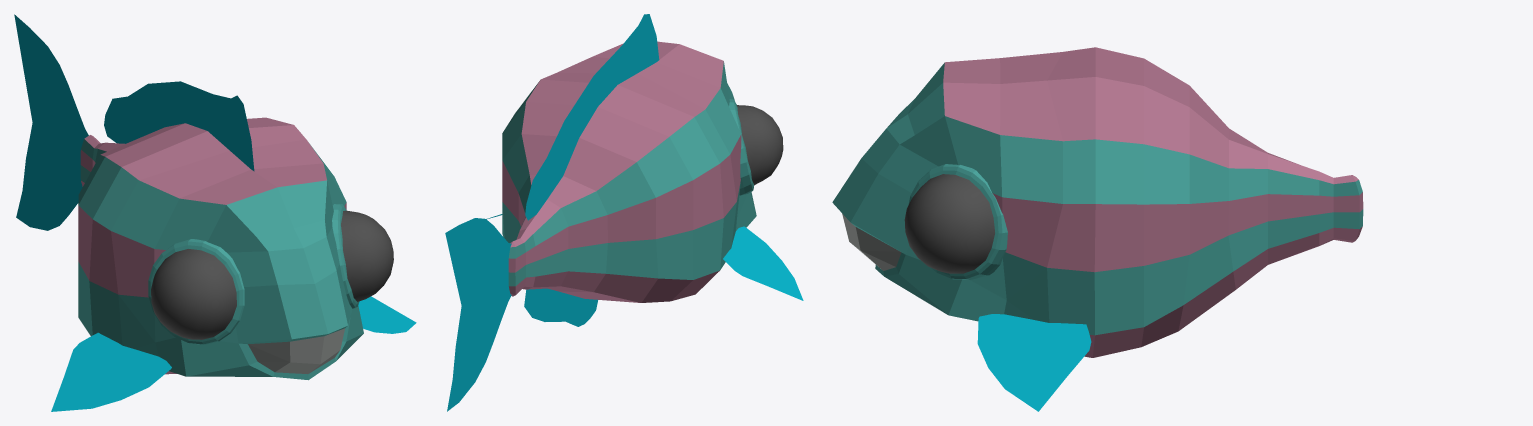
File: parrotfish.glb
3 renders of one model, left to right at view 1: azimuth 30°, elevation 25°; view 2: azimuth 150°, elevation 25°; view 3: azimuth 270°, elevation 25°, orthographic. The views are drawn at different scales.
Parts seen in each view (by area): view 1: cutefish__ParrotFish.glb; view 2: cutefish__ParrotFish.glb; view 3: cutefish__ParrotFish.glb.
Boxes of the visible parts, left/top/right/bottom form: cutefish__ParrotFish.glb: left=14, top=14, right=416, bottom=411; cutefish__ParrotFish.glb: left=445, top=14, right=803, bottom=411; cutefish__ParrotFish.glb: left=832, top=47, right=1363, bottom=411.
Size of the model in its own units: 3.9 by 3.05 by 5.8.
